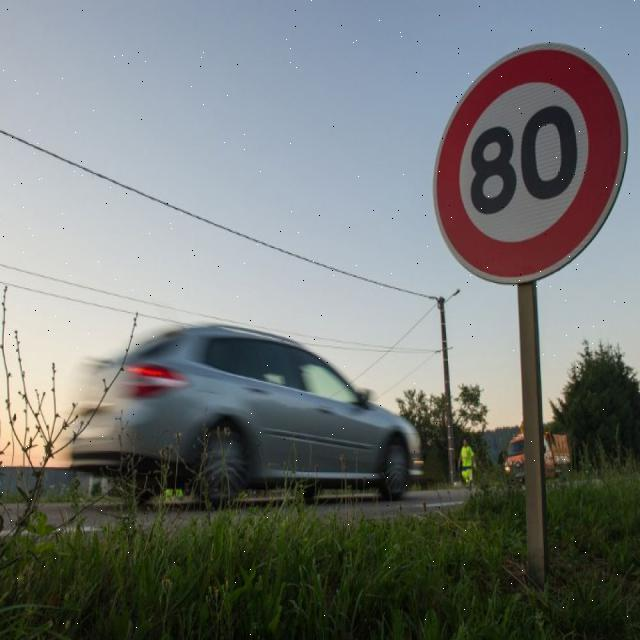speed limit 80: (432, 44, 629, 288)
